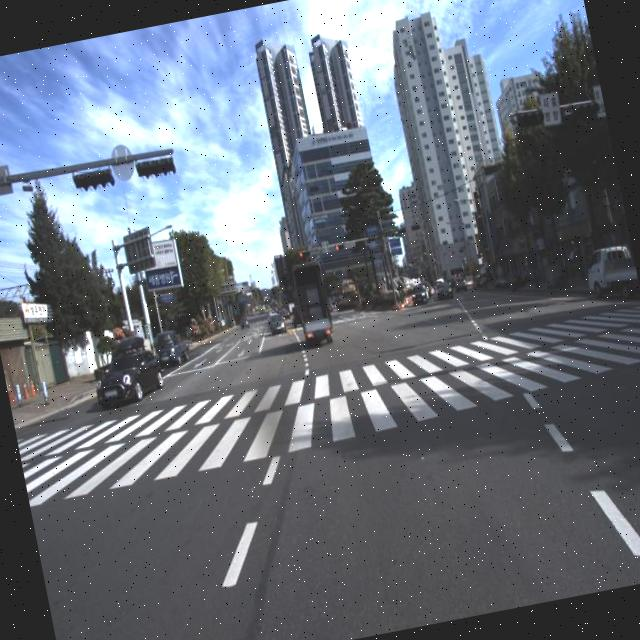crosswalk: (17, 301, 640, 507)
